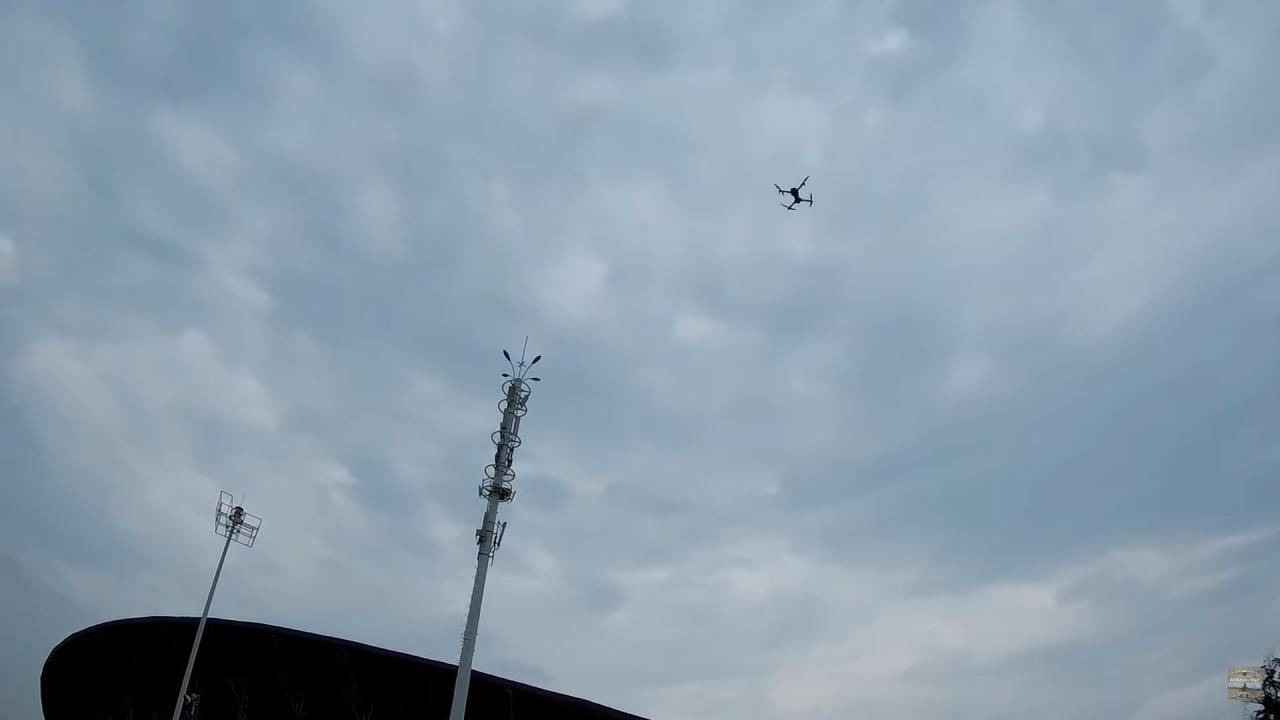Drone: (768, 172, 822, 220)
